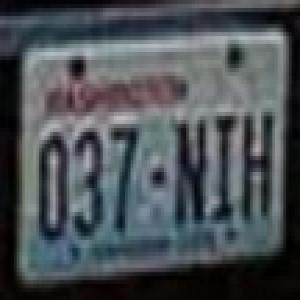Plate: (9, 25, 290, 283)
